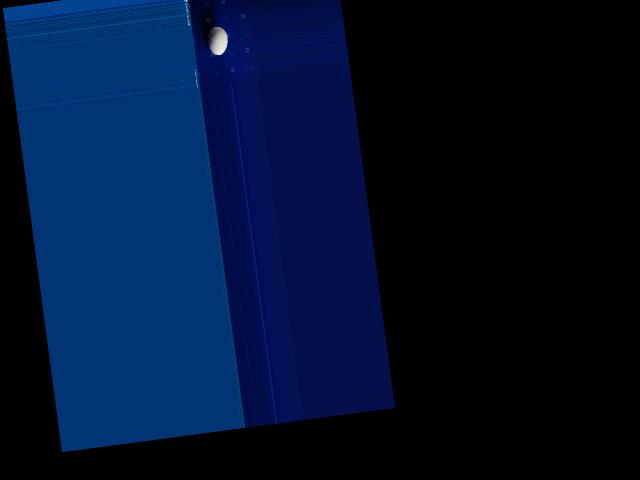egg: (205, 25, 229, 56)
